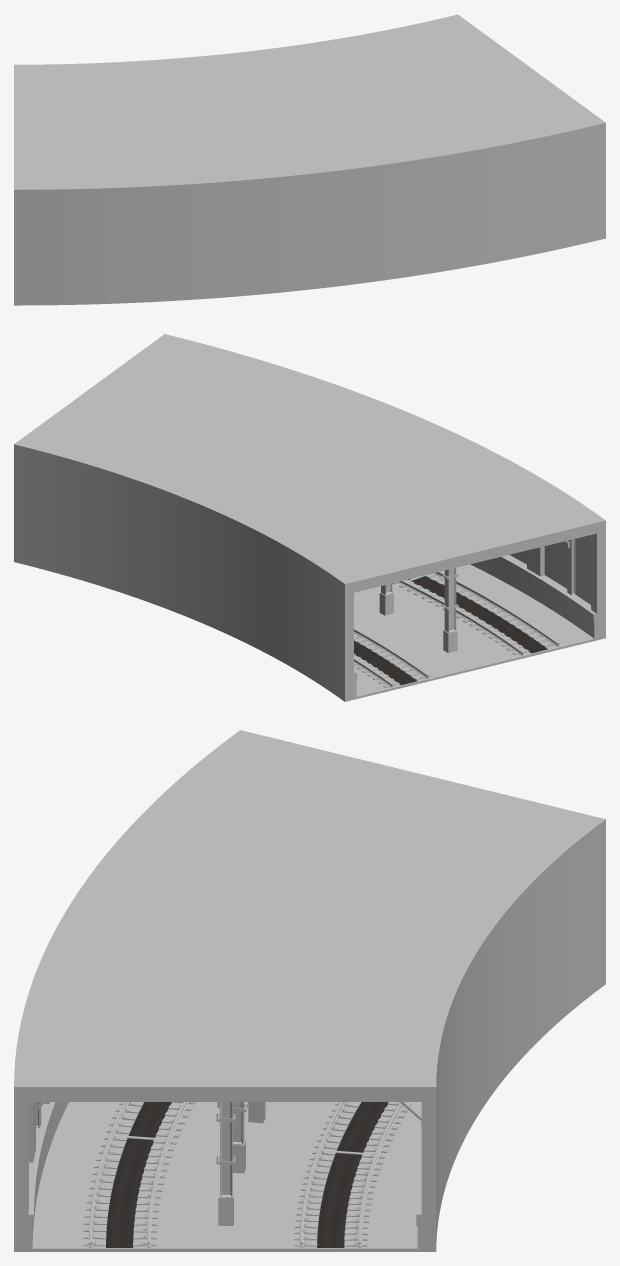
File: SM_Tunnel_Turn_B_L.fbx
3 renders of one model, top to bottom at view 1: azimuth 30°, elevation 25°; view 2: azimuth 150°, elevation 25°; view 3: azimuth 270°, elevation 25°, orthographic. The views are drawn at different scales.
Visible parts, largest first — view 1: SM_Tunnel_Turn_B_L; view 2: SM_Tunnel_Turn_B_L; view 3: SM_Tunnel_Turn_B_L.
Part boxes in pixels (x1,y1,x2,y2): SM_Tunnel_Turn_B_L: [14, 14, 605, 305]; SM_Tunnel_Turn_B_L: [14, 334, 605, 701]; SM_Tunnel_Turn_B_L: [14, 730, 605, 1251].
Bounding box in the file's own units: 2400 × 517 × 1682.
